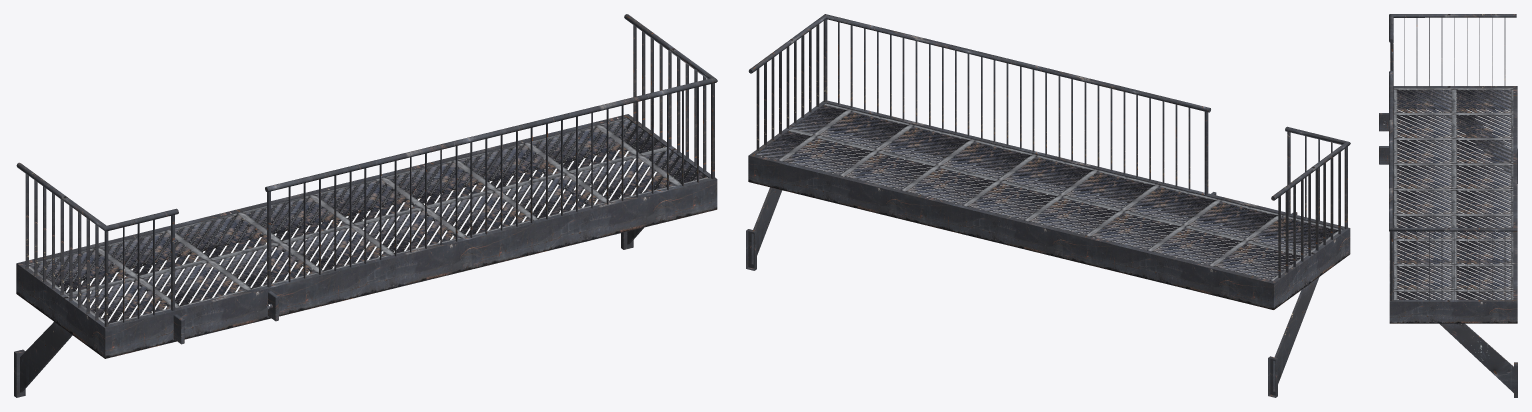
Rendered from BUILDING_exteriorStairwell_02LOD0.FBX.
3 views of the same model, side by side, from view 1: azimuth 30°, elevation 25°; view 2: azimuth 150°, elevation 25°; view 3: azimuth 270°, elevation 25° (orthographic). The views are drawn at different scales.
Visible parts, largest first — view 1: BUILDING_exteriorStairwell_02_baseLOD0, BUILDING_exteriorStairwell_02_floorLOD0; view 2: BUILDING_exteriorStairwell_02_baseLOD0, BUILDING_exteriorStairwell_02_floorLOD0; view 3: BUILDING_exteriorStairwell_02_floorLOD0, BUILDING_exteriorStairwell_02_baseLOD0.
Boxes of the visible parts, x1=… form: BUILDING_exteriorStairwell_02_baseLOD0: x1=14, y1=14, x2=717, y2=397; BUILDING_exteriorStairwell_02_floorLOD0: x1=25, y1=118, x2=707, y2=324; BUILDING_exteriorStairwell_02_baseLOD0: x1=746, y1=14, x2=1350, y2=397; BUILDING_exteriorStairwell_02_floorLOD0: x1=756, y1=103, x2=1342, y2=280; BUILDING_exteriorStairwell_02_floorLOD0: x1=1394, y1=88, x2=1513, y2=299; BUILDING_exteriorStairwell_02_baseLOD0: x1=1379, y1=14, x2=1517, y2=397.
Size of the model in its own units: 637 by 230 by 172.
2 materials, 2 textured.
